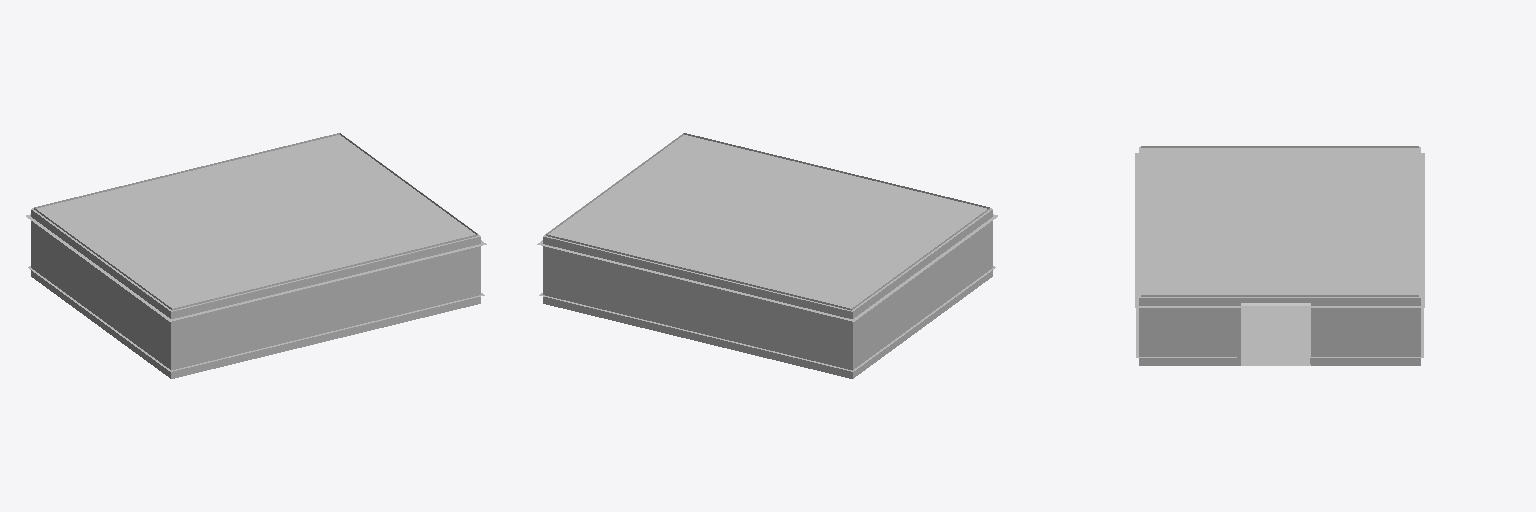
Rendered from Diner_Hall_Mesh.obj.
3 renders of one model, left to right at view 1: azimuth 30°, elevation 25°; view 2: azimuth 150°, elevation 25°; view 3: azimuth 270°, elevation 25°, orthographic.
Parts seen in each view (by area): view 1: Mesh_Dinner_Hall01; view 2: Mesh_Dinner_Hall01; view 3: Mesh_Dinner_Hall01.
Part boxes in pixels (x1,y1,x2,y2): Mesh_Dinner_Hall01: (26,133,486,378); Mesh_Dinner_Hall01: (537,133,997,378); Mesh_Dinner_Hall01: (1135,146,1424,365).
Bounding box in the file's own units: 25.55 × 5.42 × 20.24.